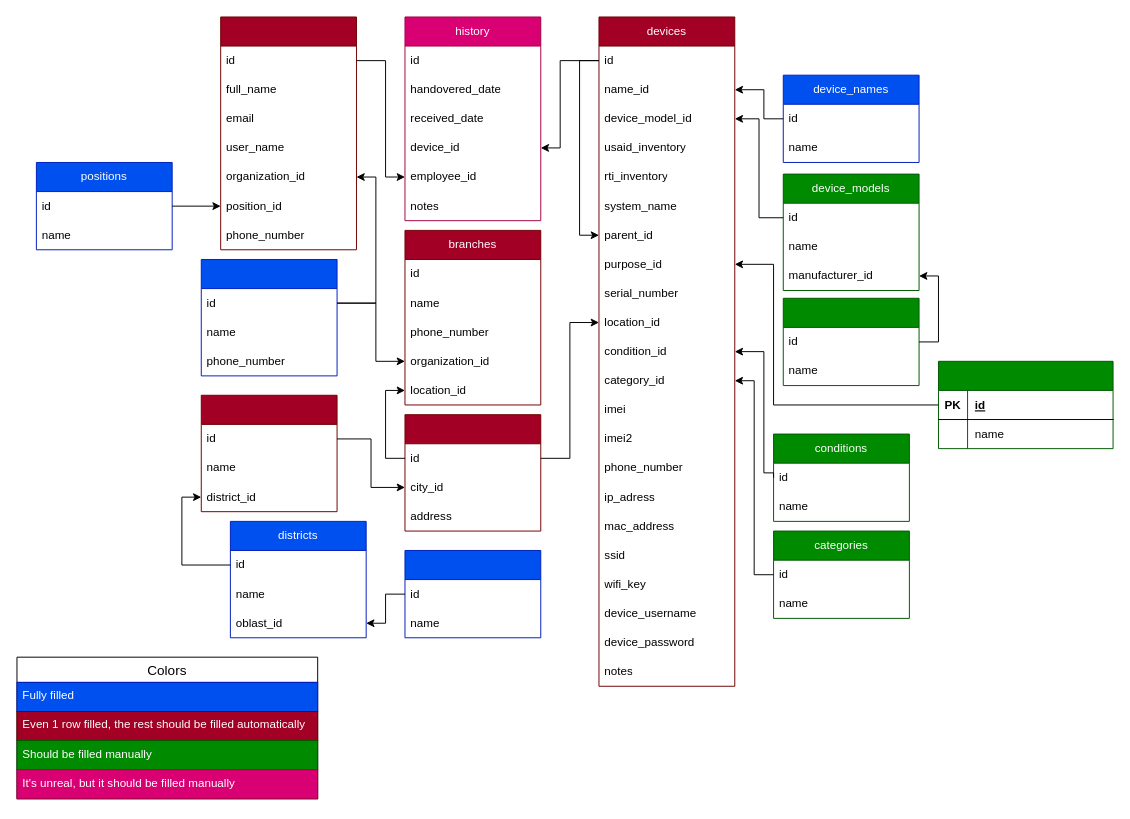
The diagram is 1130 pixels wide and 819 high, and some of its shapes have lost their labels. Each missing label, with the box of its shape:
cities: (200, 394, 337, 512)
employees: (220, 16, 356, 250)
locations: (404, 414, 541, 531)
manufacturers: (782, 297, 919, 386)
oblasts: (404, 550, 541, 638)
organizations: (200, 259, 337, 376)
Purposes: (938, 360, 1113, 449)
